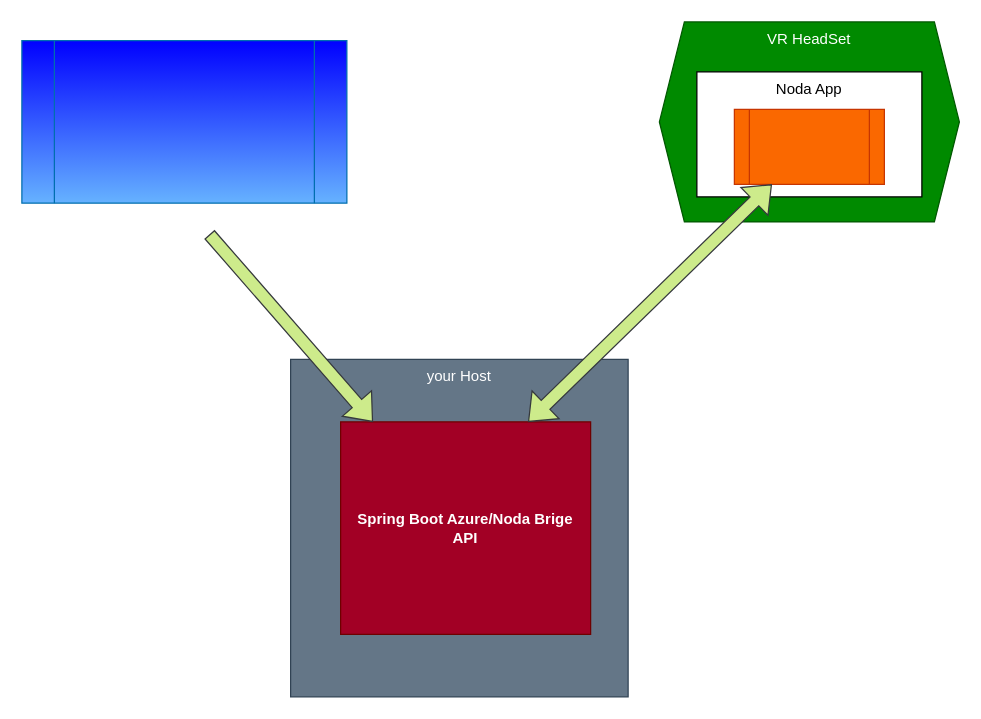
Some shapes in this 981 by 719 pixel diagram are drawn without their labels. The shapes that lost their labels are listed below. From the top down, each one's centre as x and y in pixels, then its label:
At point (184, 121): "Azure DevOps API Services".
At point (808, 146): "Noda Browser running Bridge Code".
